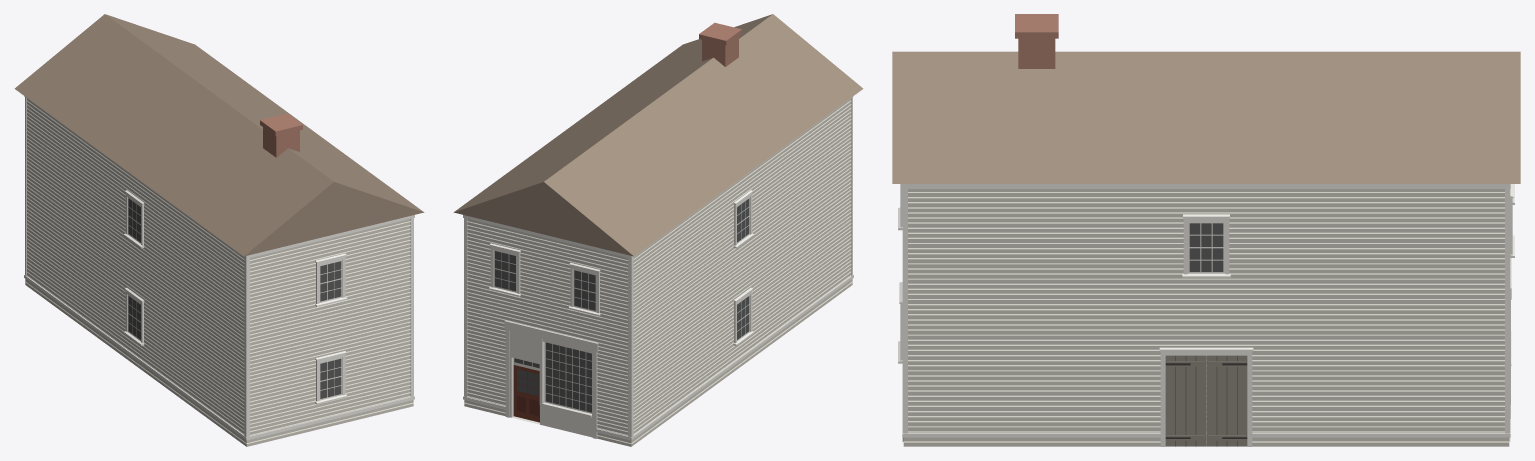
File: recon_1835_core_c3_021__inferred_1835.glb
3 views of the same model, side by side, from view 1: azimuth 30°, elevation 25°; view 2: azimuth 150°, elevation 25°; view 3: azimuth 270°, elevation 25° (orthographic). The views are drawn at different scales.
Visible parts, largest first — view 1: recon_1835_core_c3_021__inferred_1835; view 2: recon_1835_core_c3_021__inferred_1835; view 3: recon_1835_core_c3_021__inferred_1835.
Part boxes in pixels (left/top/right/bottom): recon_1835_core_c3_021__inferred_1835: left=14, top=14, right=424, bottom=446; recon_1835_core_c3_021__inferred_1835: left=453, top=14, right=863, bottom=446; recon_1835_core_c3_021__inferred_1835: left=892, top=14, right=1520, bottom=446.
Bounding box in the file's own units: 6.46 × 9.17 × 14.19.
